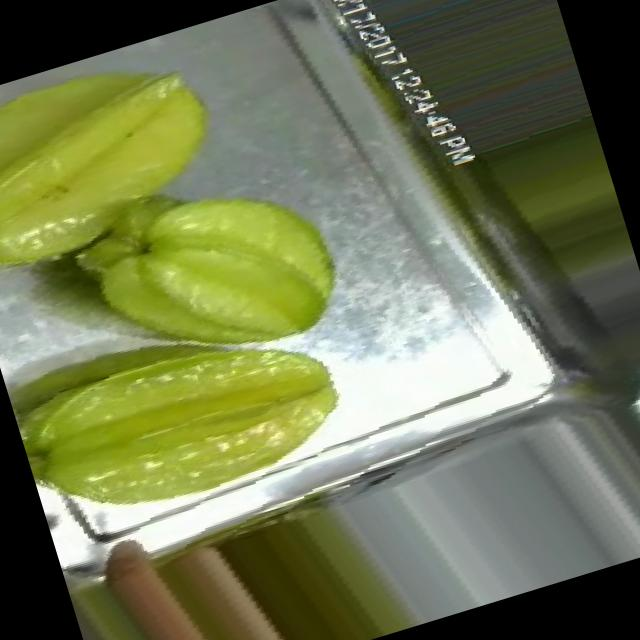fruit: (2, 277, 378, 559), (51, 116, 385, 419), (0, 16, 279, 304), (56, 485, 322, 640)
